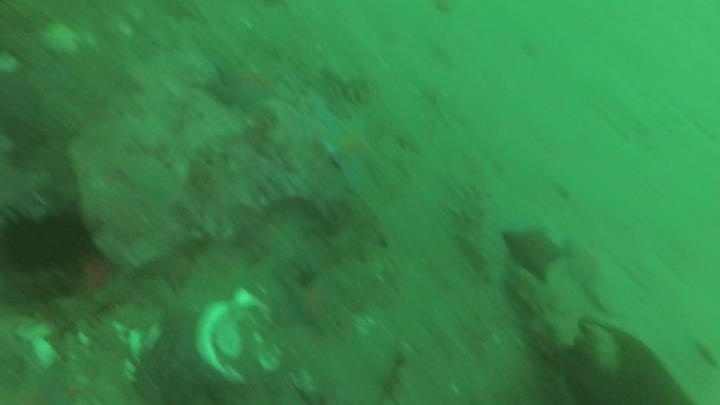echinus: (1, 204, 92, 275)
holothurian: (448, 181, 511, 288), (312, 55, 376, 105)
starfish: (311, 101, 380, 190), (277, 271, 347, 336), (502, 221, 574, 283), (209, 59, 284, 114), (69, 248, 122, 305)
